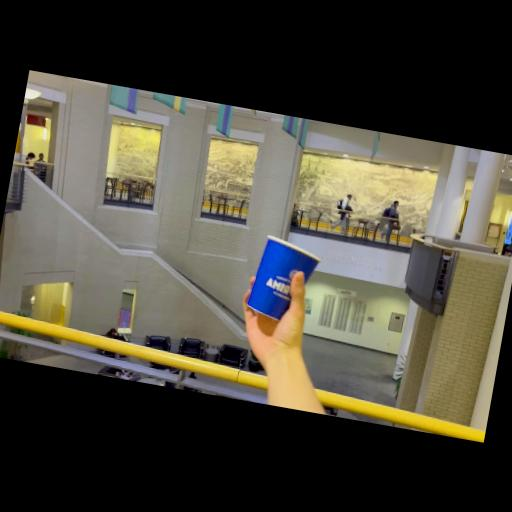lp_paper_cup: (244, 232, 325, 327)
